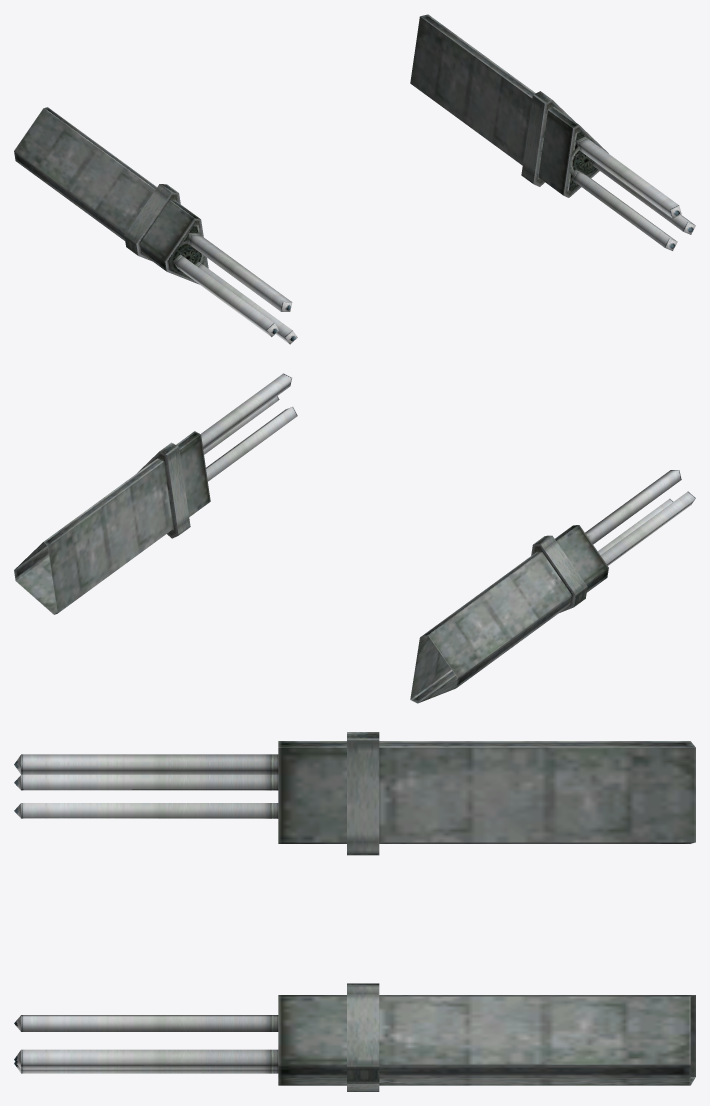
The model's file is hutt_fighter_heavy_weapon1_s04_l1.fbx.
3 views of the same model, one above another, from view 1: azimuth 30°, elevation 25°; view 2: azimuth 150°, elevation 25°; view 3: azimuth 270°, elevation 25° (orthographic). The views are drawn at different scales.
Parts seen in each view (by area): view 1: mesh_node; view 2: mesh_node; view 3: mesh_node.
Boxes of the visible parts, bbox=[...] form: mesh_node: bbox=[14, 14, 695, 344]; mesh_node: bbox=[14, 373, 695, 703]; mesh_node: bbox=[14, 732, 695, 1091].
Size of the model in its own units: 2.77 by 0.4941 by 2.66.
